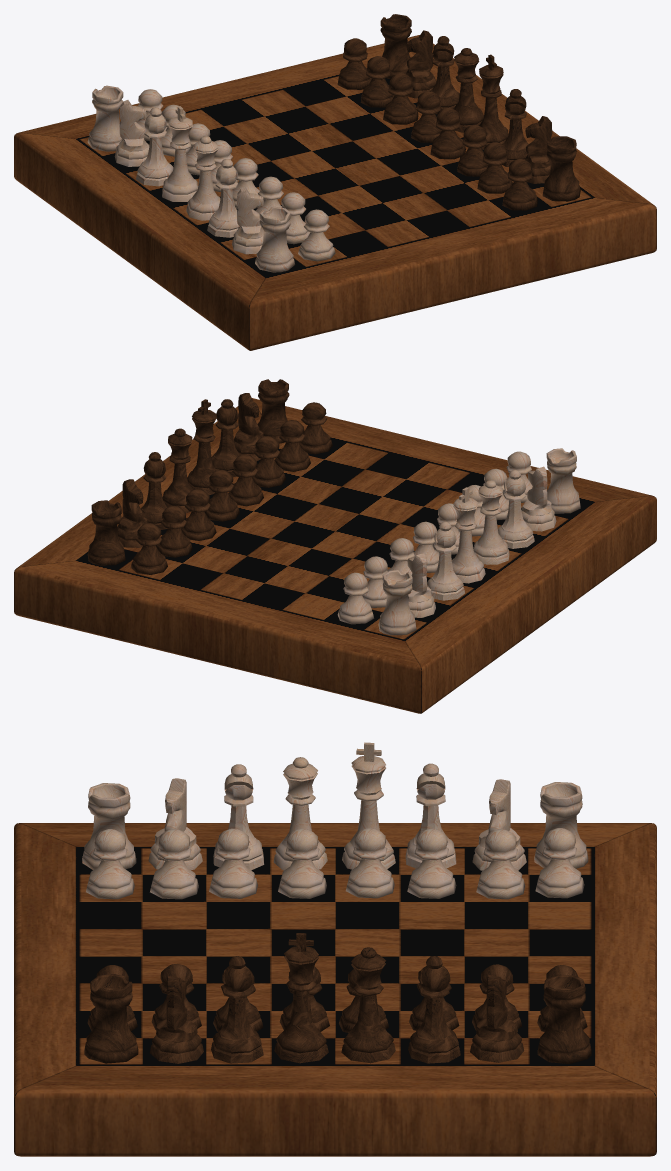
File: WoodenChessSet.fbx
The picture shows the model from 3 angles, top to bottom: view 1: azimuth 30°, elevation 25°; view 2: azimuth 150°, elevation 25°; view 3: azimuth 270°, elevation 25°; orthographic projection. The views are drawn at different scales.
Parts seen in each view (by area): view 1: ChessBoard, WhiteKing, WhiteRook, BlackRook.001, WhiteRook.001, WhiteQueen, WhiteKnight.001, WhiteBishop.001, WhiteKnight, WhiteBishop, BlackKing, BlackQueen (+20 smaller); view 2: ChessBoard, WhiteRook.001, BlackRook, WhiteKing, WhiteQueen, WhiteRook, WhiteBishop.001, WhiteBishop, BlackKing, BlackQueen, WhiteKnight, BlackRook.001 (+20 smaller); view 3: ChessBoard, BlackKing, BlackRook, BlackRook.001, BlackQueen, BlackBishop, BlackBishop.001, BlackKnight.001, BlackKnight, WhiteKing, WhiteRook.001, WhiteRook (+21 smaller).
Part boxes in pixels (x1,y1,x2,y2): ChessBoard: [14, 35, 656, 350]; WhiteKing: [162, 106, 198, 201]; WhiteRook: [255, 206, 294, 272]; BlackRook.001: [542, 136, 580, 201]; WhiteRook.001: [87, 85, 123, 151]; WhiteQueen: [186, 136, 220, 220]; WhiteKnight.001: [114, 100, 149, 166]; WhiteBishop.001: [136, 107, 173, 186]; WhiteKnight: [232, 187, 263, 254]; WhiteBishop: [207, 159, 239, 237]; BlackKing: [479, 54, 508, 149]; BlackQueen: [453, 48, 483, 132]; ChessBoard: [14, 398, 656, 713]; WhiteRook.001: [378, 570, 416, 635]; BlackRook: [87, 500, 125, 565]; WhiteKing: [451, 487, 485, 583]; WhiteQueen: [473, 480, 509, 564]; WhiteRook: [546, 448, 580, 513]; WhiteBishop.001: [427, 521, 464, 600]; WhiteBishop: [498, 470, 534, 548]; BlackKing: [187, 399, 216, 495]; BlackQueen: [162, 428, 193, 513]; WhiteKnight: [521, 466, 556, 531]; BlackRook.001: [257, 379, 289, 443]; ChessBoard: [14, 823, 656, 1156]; BlackKing: [274, 933, 328, 1063]; BlackRook: [537, 974, 591, 1063]; BlackRook.001: [84, 974, 138, 1063]; BlackQueen: [341, 947, 395, 1063]; BlackBishop: [408, 956, 460, 1063]; BlackBishop.001: [211, 956, 263, 1063]; BlackKnight.001: [149, 976, 203, 1063]; BlackKnight: [470, 975, 524, 1062]; WhiteKing: [342, 742, 395, 869]; WhiteRook.001: [534, 782, 588, 868]; WhiteRook: [82, 783, 136, 869].
Size of the model in its own units: 35 by 11.08 by 35.
Materials: 3 (3 with a texture image).
